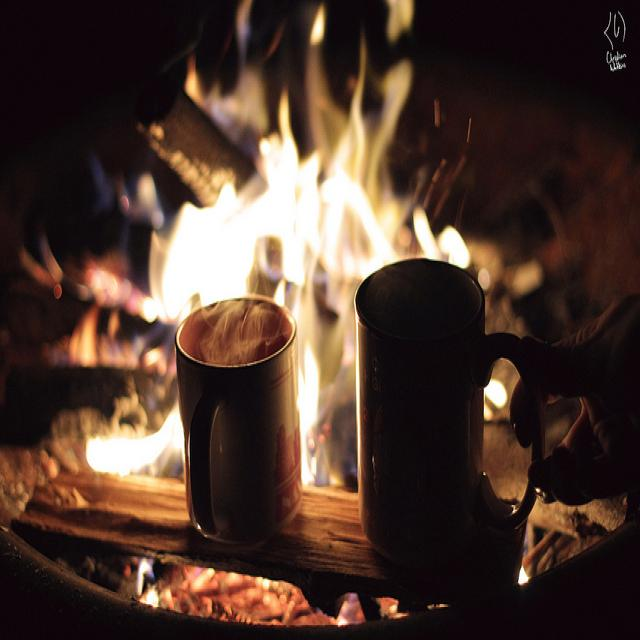Cup: (349, 247, 545, 576), (162, 292, 306, 538)
